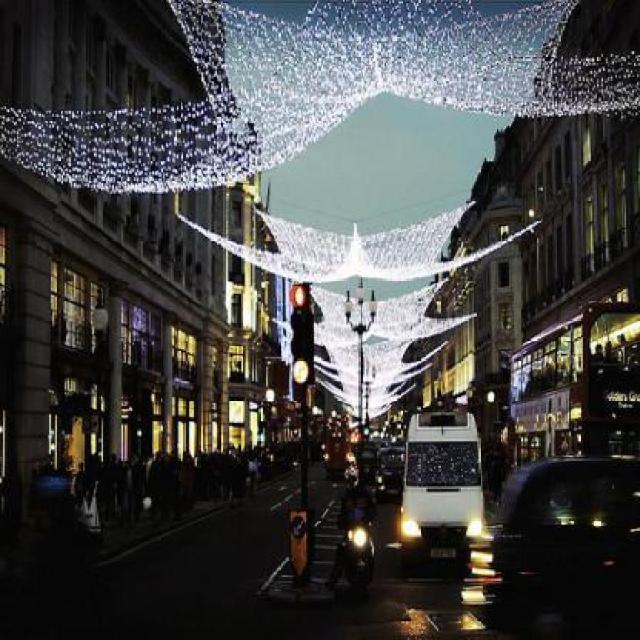Person: (28, 444, 243, 522), (336, 463, 373, 529), (102, 449, 116, 526), (168, 446, 183, 517), (130, 452, 144, 520), (156, 455, 170, 517), (148, 449, 160, 514), (115, 457, 126, 526), (74, 460, 86, 505), (247, 452, 258, 496), (600, 337, 618, 361), (144, 452, 153, 494), (41, 452, 57, 474), (254, 464, 260, 484)
